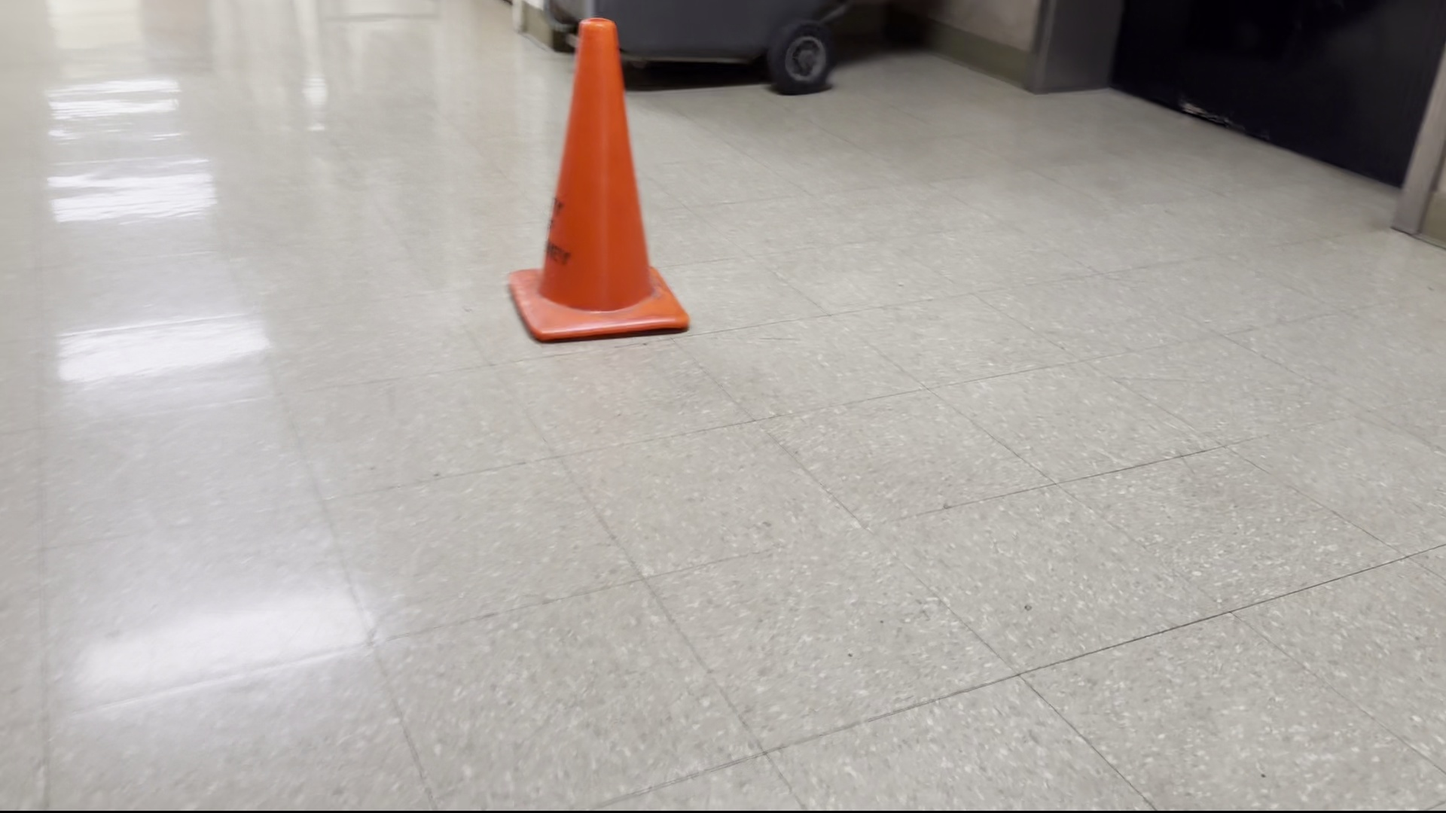traffic_cone: (507, 16, 691, 343)
